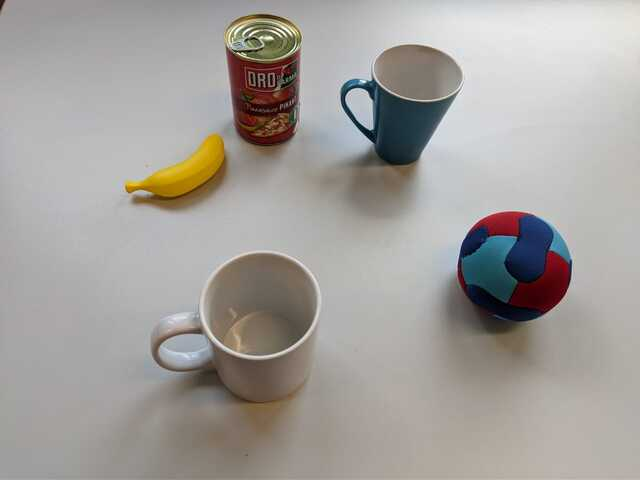005_tomato_soup_can: (220, 11, 310, 148)
011_banana: (124, 130, 228, 205)
025_mug: (147, 248, 324, 408), (338, 41, 468, 172)
057_racquetball: (452, 208, 578, 328)
